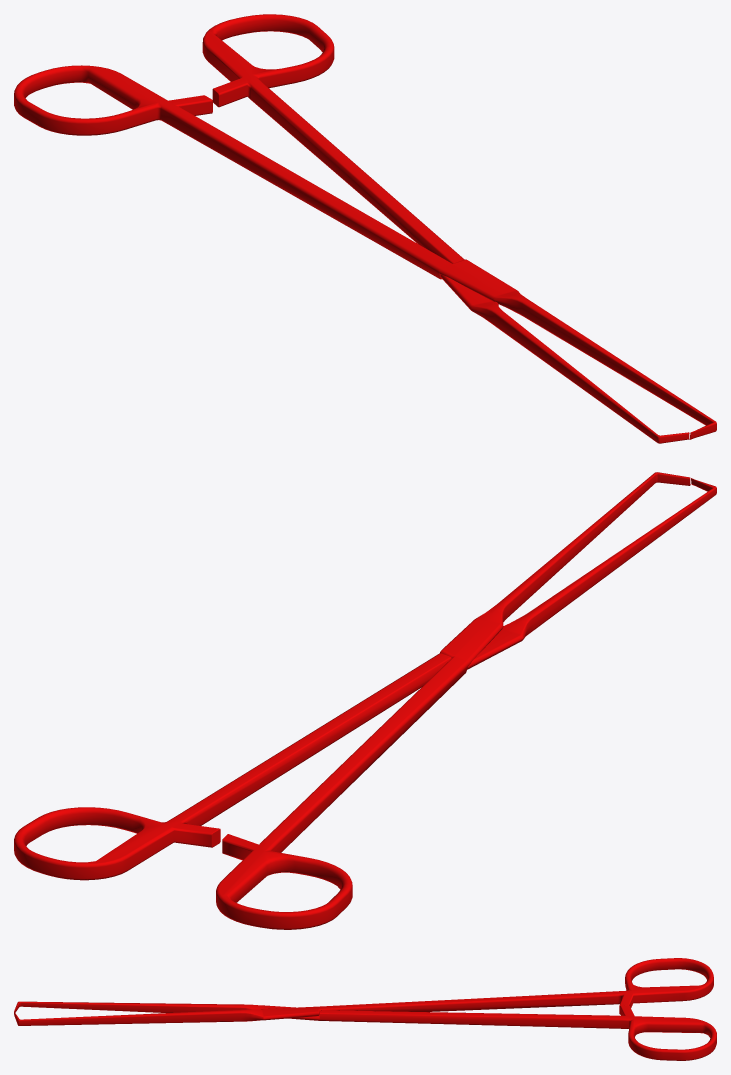
Rendered from Medical_instrument_2.fbx.
3 views of the same model, one above another, from view 1: azimuth 30°, elevation 25°; view 2: azimuth 150°, elevation 25°; view 3: azimuth 270°, elevation 25° (orthographic). The views are drawn at different scales.
Parts seen in each view (by area): view 1: L32:polySurface1399; view 2: L32:polySurface1399; view 3: L32:polySurface1399.
Boxes of the visible parts, x1,y1,x2,y2 form: L32:polySurface1399: [14, 14, 716, 443]; L32:polySurface1399: [14, 472, 716, 929]; L32:polySurface1399: [14, 958, 716, 1060].
Bounding box in the file's own units: 14.21 × 0.9066 × 44.02.
